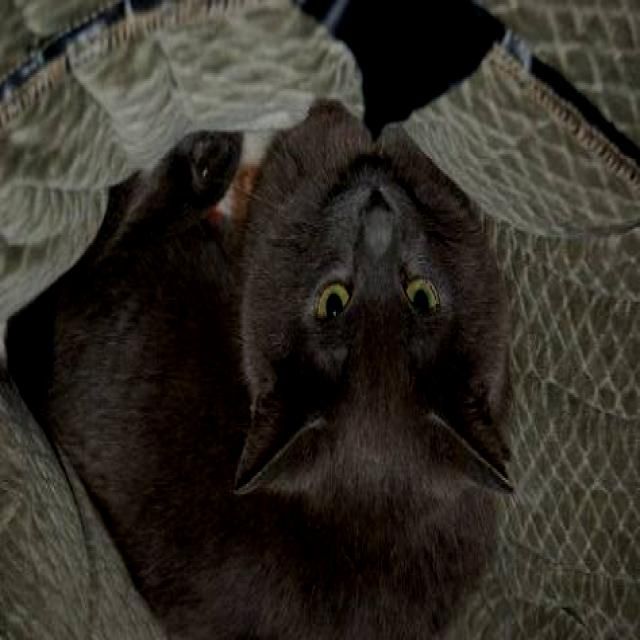Kucing: (13, 114, 598, 626)
